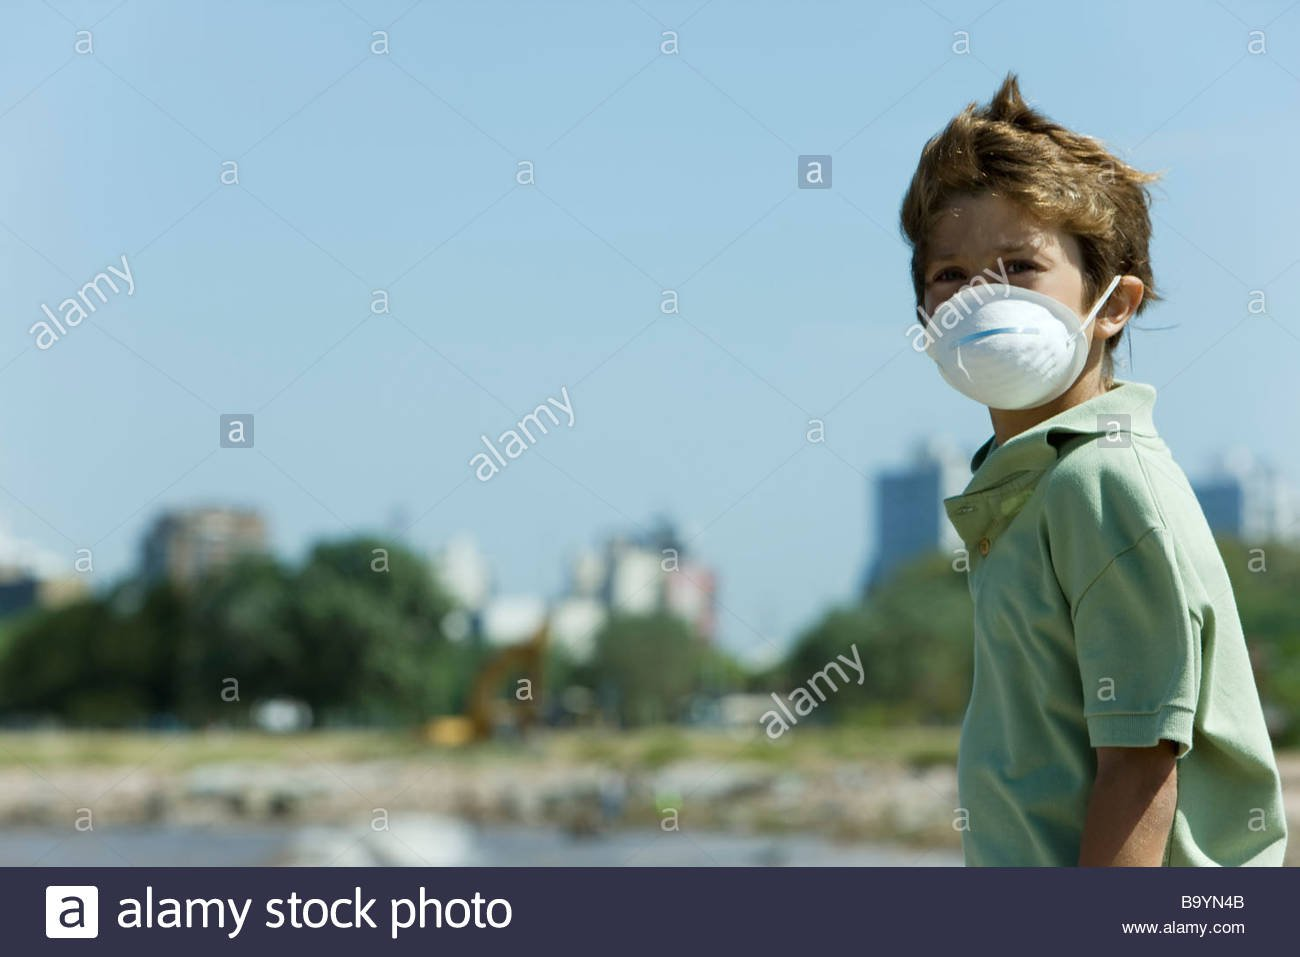mask: (874, 101, 1174, 405)
